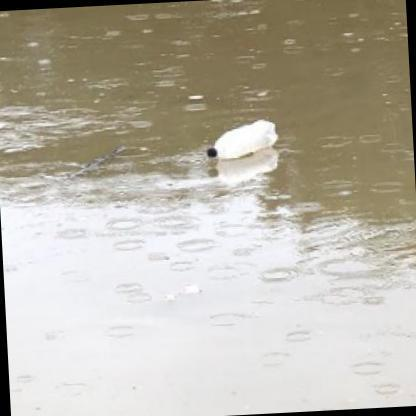plastic bottle: (207, 120, 278, 156)
